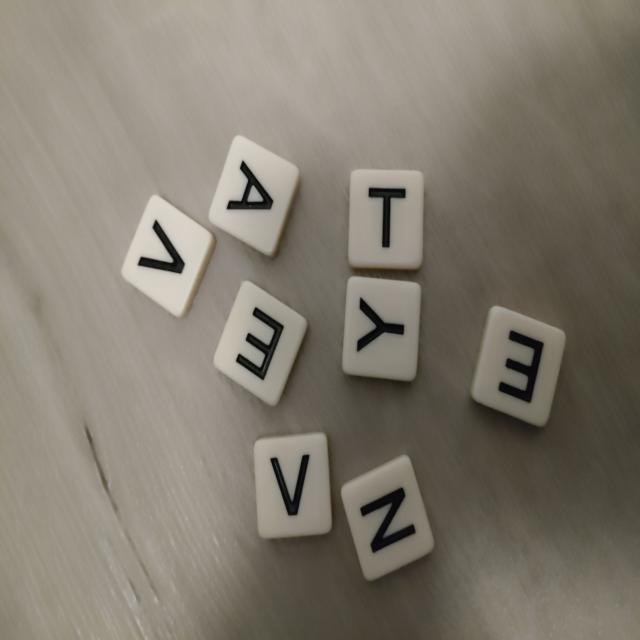a: (205, 133, 306, 261)
e: (210, 276, 310, 410), (466, 303, 570, 431)
n: (339, 453, 437, 584)
t: (348, 169, 425, 270)
v: (119, 192, 219, 323), (253, 432, 334, 539)
y: (339, 275, 423, 383)
